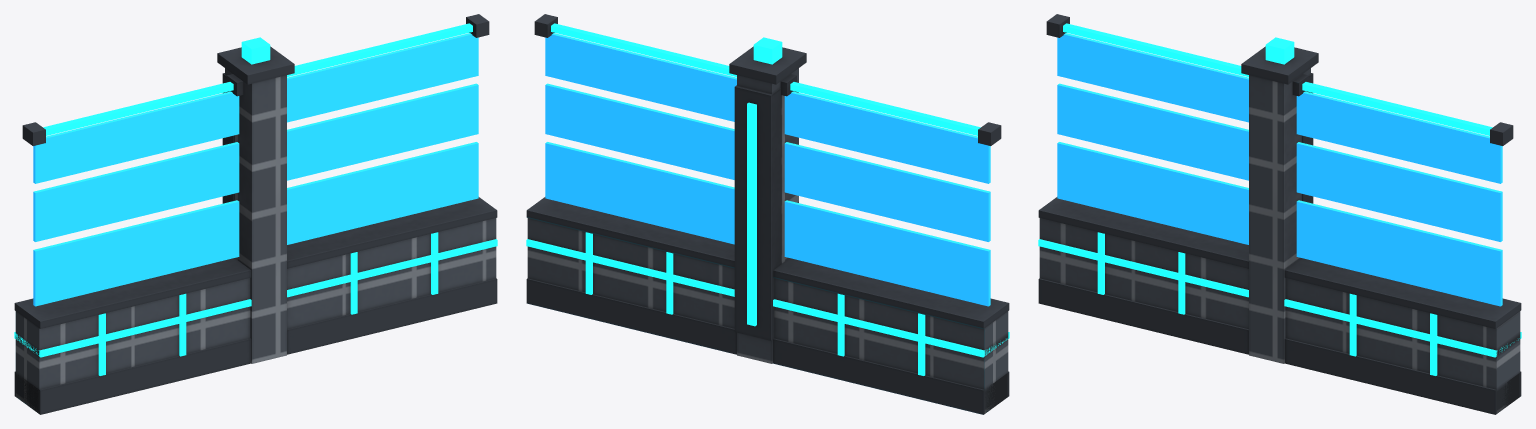
Rendered from fort_l8_edge.glb.
3 views of the same model, side by side, from view 1: azimuth 30°, elevation 25°; view 2: azimuth 150°, elevation 25°; view 3: azimuth 330°, elevation 25° (orthographic).
Visible parts, largest first — view 1: fort_l8_edge; view 2: fort_l8_edge; view 3: fort_l8_edge.
Part boxes in pixels (x1,y1,x2,y2): fort_l8_edge: (14,14,497,414); fort_l8_edge: (526,14,1009,414); fort_l8_edge: (1038,14,1521,414).
Bounding box in the file's own units: 0.78 × 0.5 × 0.095.
3 materials, 1 textured.
